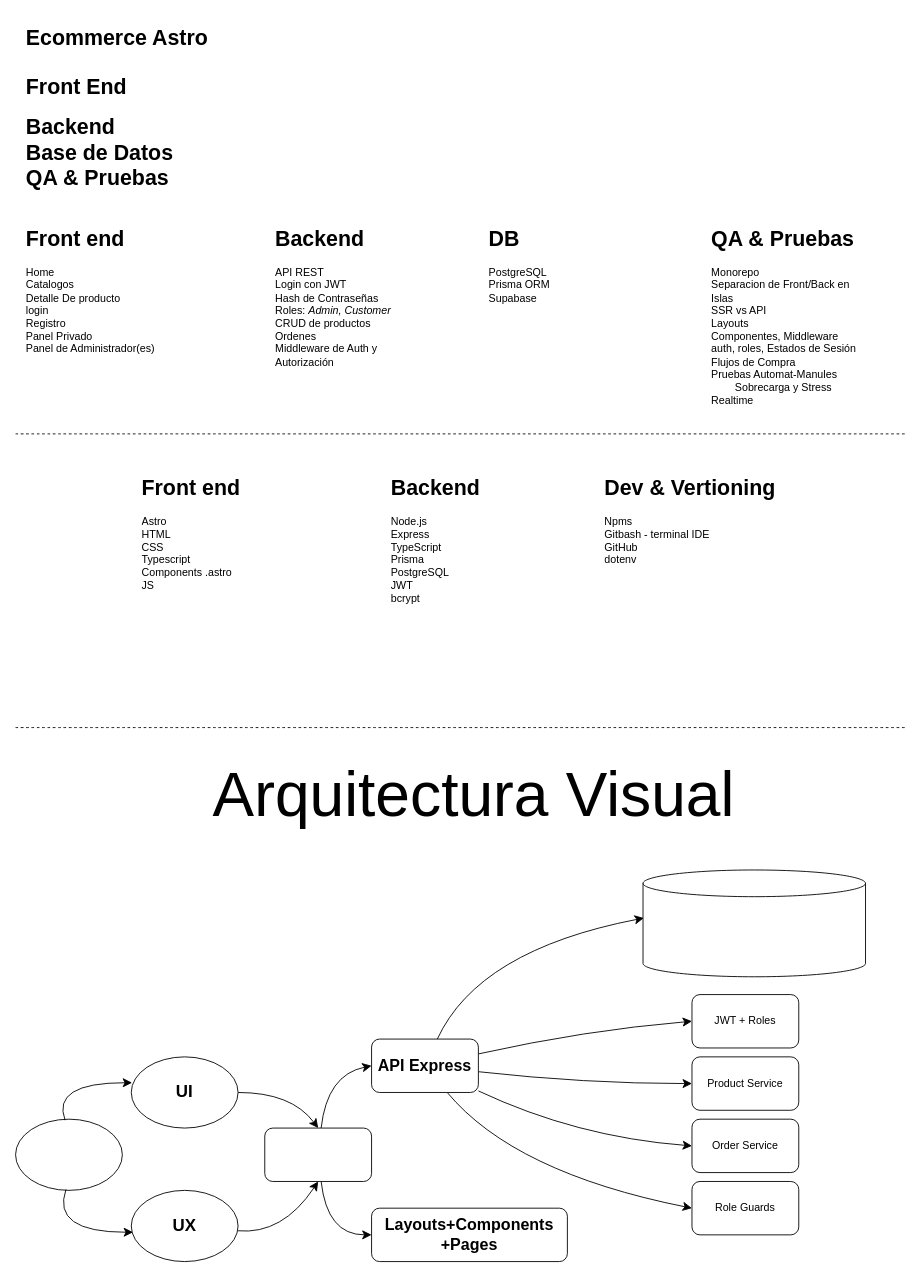
Some shapes in this 922 by 1277 pixel diagram are drawn without their labels. The centre of each missing label's shape, as x and y in pixels:
Astro: point 318,1154
PostgreSQL Supabase: point 754,923
Usuario: point 68,1154
